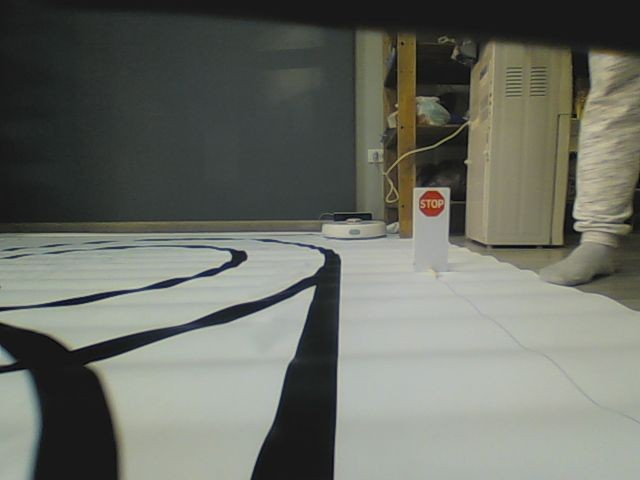Stop: (417, 188, 446, 218)
